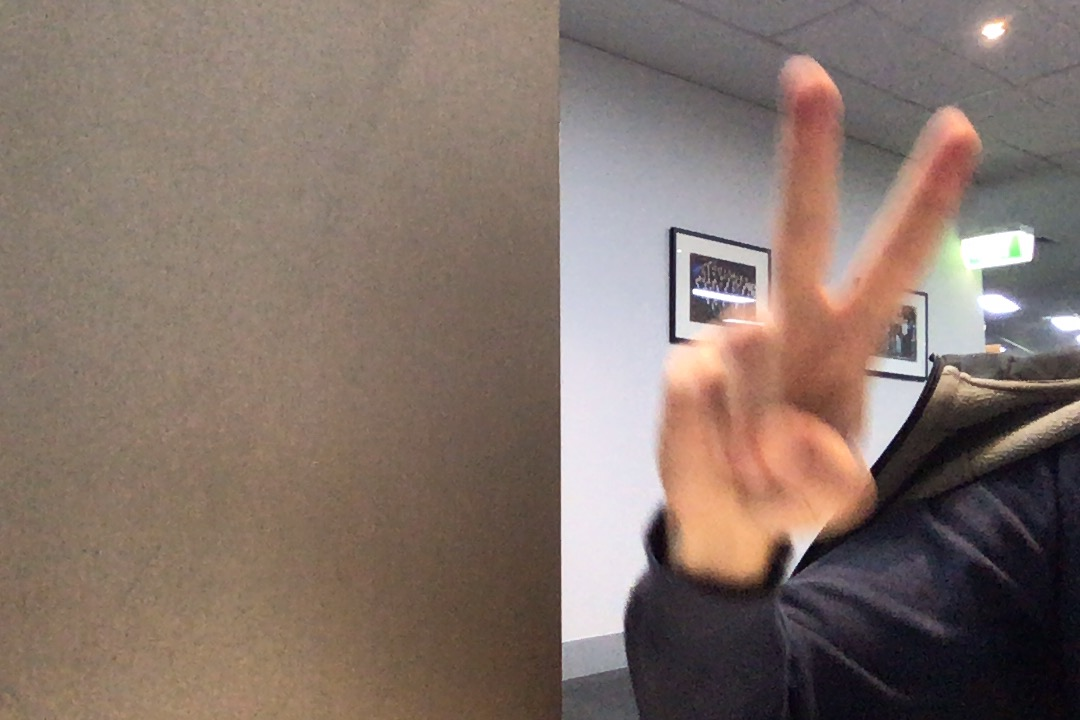peacesign: (638, 41, 992, 558)
